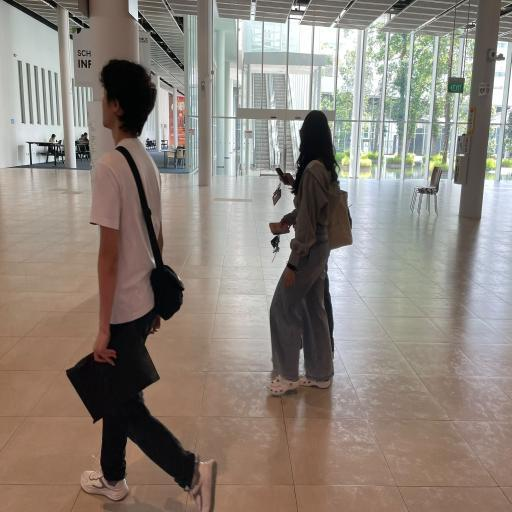person_left: (80, 54, 210, 512), (268, 110, 352, 403)
